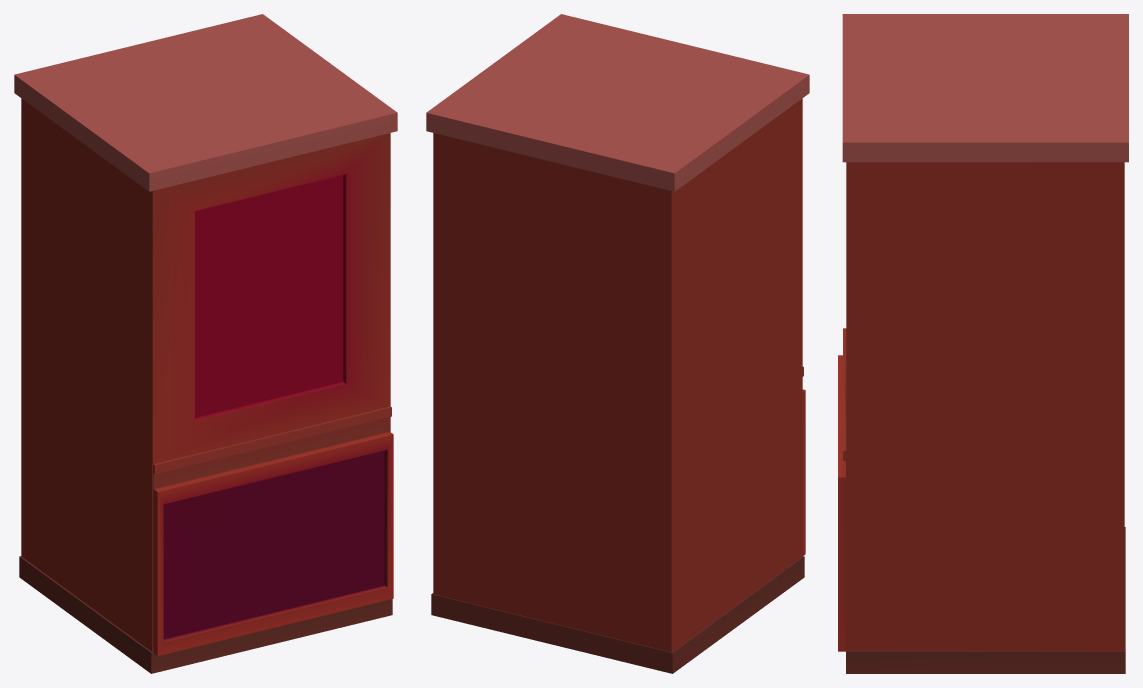
3 views of the same model, side by side, from view 1: azimuth 30°, elevation 25°; view 2: azimuth 150°, elevation 25°; view 3: azimuth 270°, elevation 25° (orthographic). The views are drawn at different scales.
Visible parts, largest first — view 1: upper_frame, body, lower_frame, top, plinth, band; view 2: body, top, plinth, lower_frame; view 3: body, top, plinth, lower_frame, band.
Boxes of the visible parts, x1,y1,x2,y2 form: upper_frame: (152,133,390,464); body: (21,98,390,652); lower_frame: (153,431,393,656); top: (14,14,397,191); plinth: (19,556,392,673); band: (153,406,391,489); body: (433,98,802,652); top: (426,14,809,191); plinth: (431,556,804,673); lower_frame: (802,389,805,555); body: (846,162,1124,650); top: (842,14,1128,162); plinth: (846,527,1125,673); lower_frame: (838,355,846,651); band: (843,328,846,477).
Size of the model in its own units: 0.621 by 1.2 by 0.5935.
